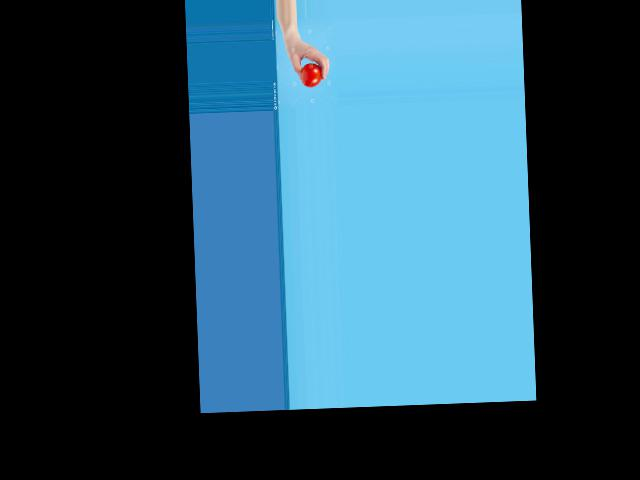tomato: (300, 62, 322, 87)
